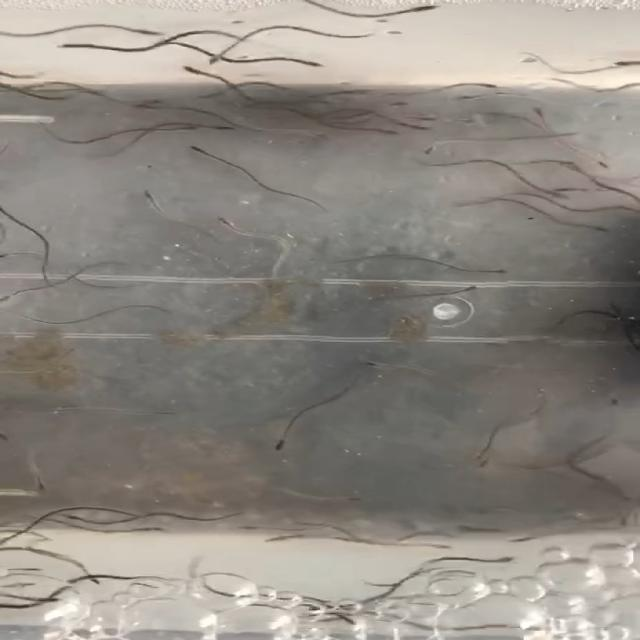active_glass_eel: (286, 51, 334, 72), (463, 446, 501, 468), (121, 522, 180, 536), (207, 45, 244, 67), (132, 21, 166, 42), (48, 509, 94, 524), (581, 154, 624, 170), (319, 492, 362, 508), (463, 74, 505, 90), (120, 91, 168, 105), (232, 522, 280, 536), (75, 570, 108, 589), (134, 406, 172, 422), (389, 4, 444, 15), (455, 555, 515, 565), (177, 66, 219, 80), (604, 54, 640, 70), (418, 139, 454, 155), (365, 126, 405, 140), (266, 436, 294, 456), (261, 530, 289, 550), (453, 90, 490, 105), (199, 118, 236, 133), (504, 532, 543, 546), (393, 118, 431, 132), (138, 185, 161, 208), (535, 186, 569, 201), (476, 265, 514, 278), (213, 215, 242, 232), (28, 596, 69, 608), (385, 97, 421, 110), (568, 223, 607, 235), (333, 612, 362, 628), (56, 38, 88, 52), (182, 140, 210, 156), (162, 125, 211, 134), (449, 283, 480, 297), (365, 357, 398, 370), (0, 291, 29, 304), (529, 103, 552, 119), (0, 247, 24, 260), (32, 478, 53, 492)
